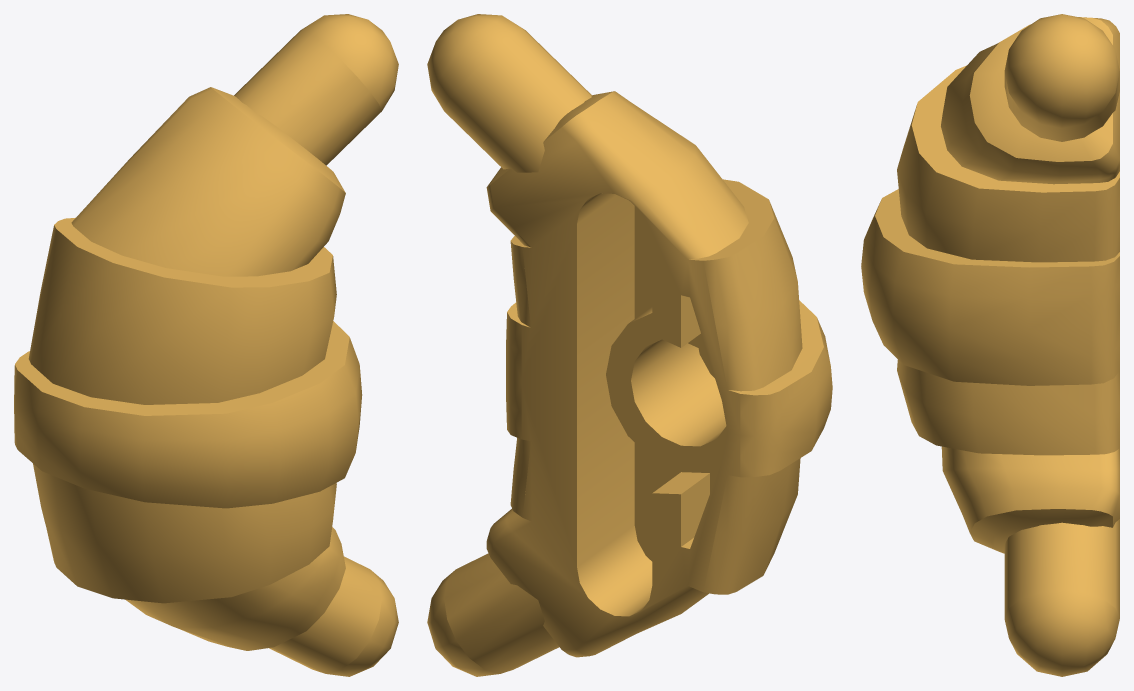
The picture shows the model from 3 angles, left to right: view 1: azimuth 30°, elevation 25°; view 2: azimuth 150°, elevation 25°; view 3: azimuth 270°, elevation 25°; orthographic projection.
Visible parts, largest first — view 1: SOLID-WHITE_012-material.089; view 2: SOLID-WHITE_012-material.089; view 3: SOLID-WHITE_012-material.089.
Part boxes in pixels (<box>): SOLID-WHITE_012-material.089: <box>14,14,398,676</box>; SOLID-WHITE_012-material.089: <box>427,14,832,676</box>; SOLID-WHITE_012-material.089: <box>861,14,1119,676</box>.
Bounding box in the file's own units: 149 × 253 × 91.08.
